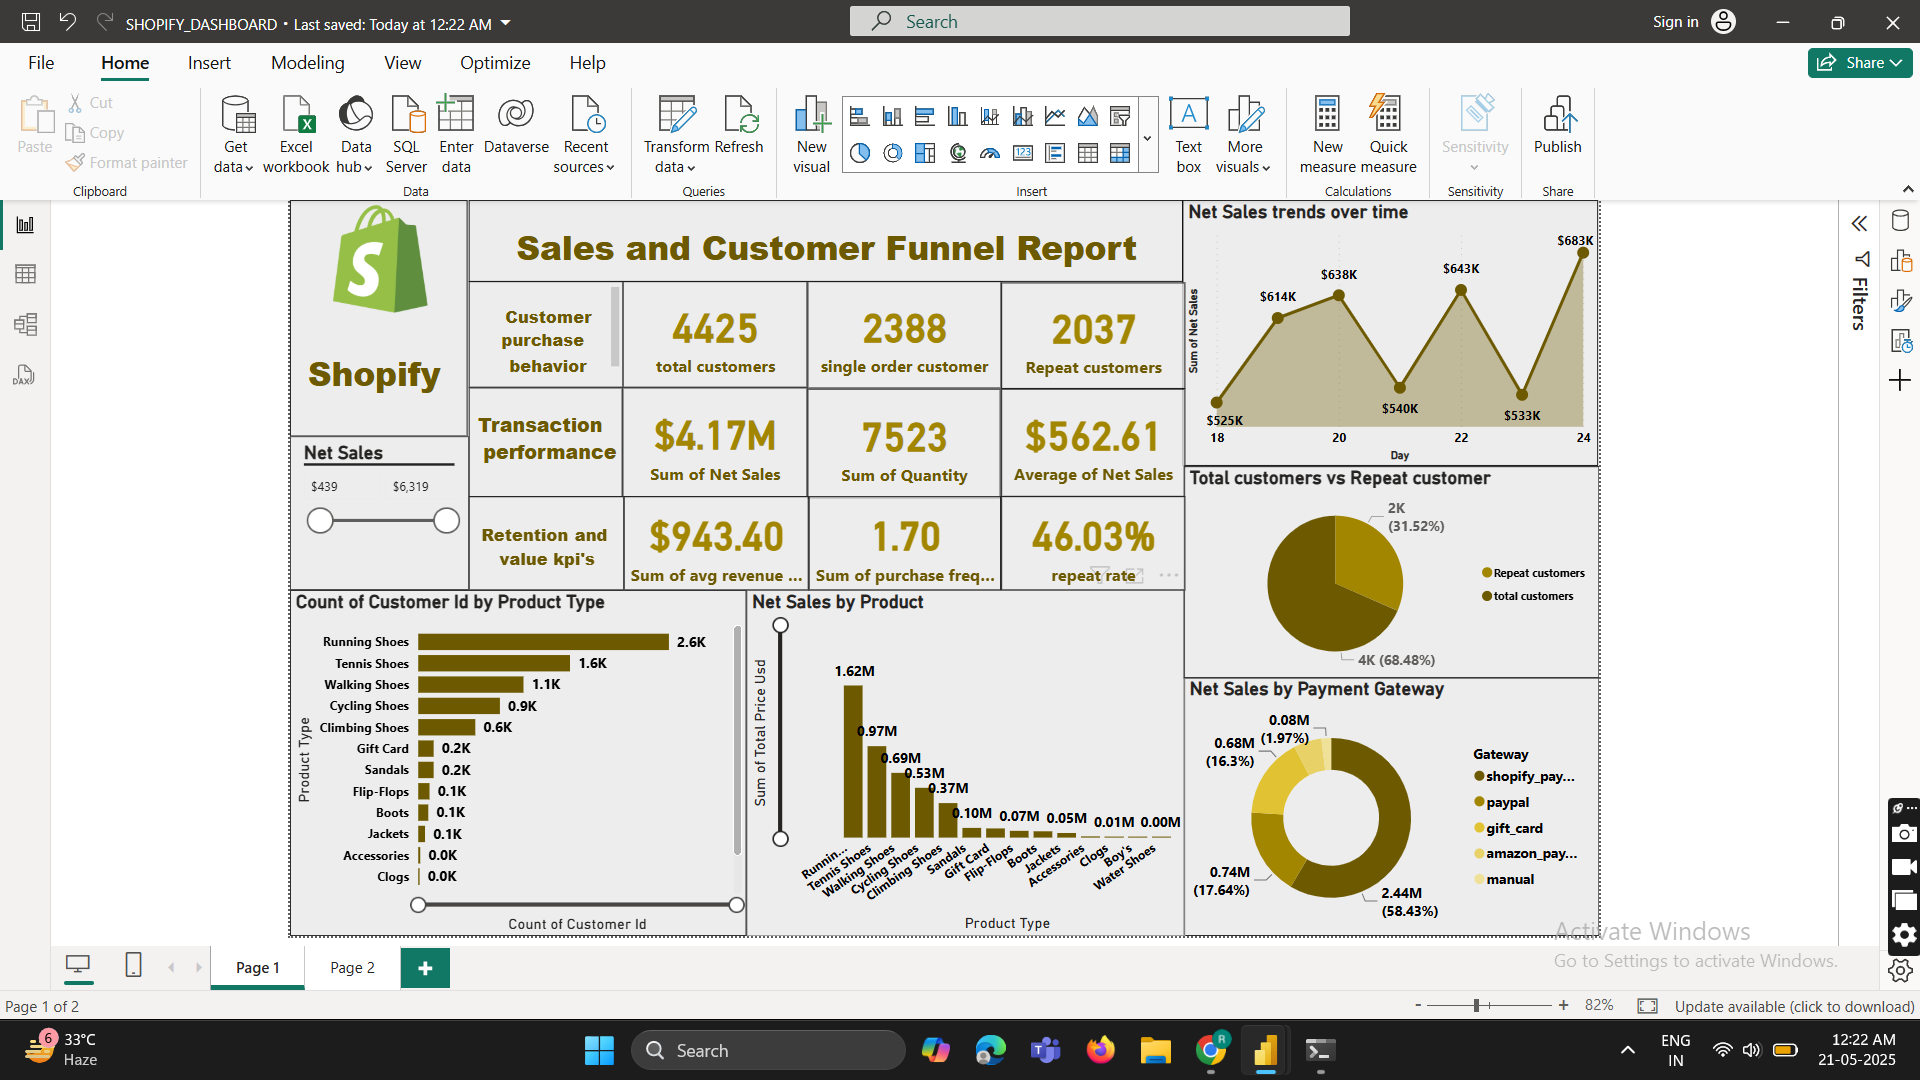

The page's visual inventory and layout, read from the dashboard file:
{"tool":"powerbi","page":{"name":"Page 1","canvas":[1280,720],"ordinal":0},"visuals":[{"type":"donutChart","title":"Net Sales by Payment Gateway","fields":{"Category":["shopify_sales.Gateway"],"Y":["Sum(shopify_sales.Subtotal Price)"]},"box":[873.8,467.5,406.2,252.5],"z":0},{"type":"clusteredColumnChart","title":"Net Sales by Product ","fields":{"Category":["shopify_sales (2).Product Type"],"Y":["Sum(shopify_sales (2).Total Price Usd)"]},"box":[446.2,381.4,429.1,338.6],"z":1000},{"type":"areaChart","title":"Net Sales trends over time","fields":{"Category":["Table1.Invoice Date.Variation.Date Hierarchy.Day"],"Y":["Sum(Table1.Net Sales)"]},"box":[872.5,0,406.2,260],"z":2000},{"type":"clusteredBarChart","fields":{"Category":["shopify_sales.Product Type"],"Y":["CountNonNull(shopify_sales.Customer Id)"]},"box":[0,381.2,446.2,338.8],"z":3000},{"type":"card","fields":{"Values":["Sum(Table1.Quantity)"]},"box":[506.1,184.3,188.9,107.3],"z":4000},{"type":"card","fields":{"Values":["Sum(Table1.Net Sales)"]},"box":[325,183,180.5,107.1],"z":5000},{"type":"card","fields":{"Values":["Avg(Table1.Net Sales)"]},"box":[695,184.3,179.8,105.8],"z":6000},{"type":"textbox","box":[174.3,183,150.7,107.1],"z":7000},{"type":"card","fields":{"Values":["Table1.total customers"]},"box":[325.2,79.5,180.9,103.9],"z":8000},{"type":"textbox","box":[174.3,80,151.4,104.3],"z":9000},{"type":"card","fields":{"Values":["Table1.single order customer"]},"box":[505.5,79.7,189.3,104.6],"z":10000},{"type":"card","fields":{"Values":["Table1.Repeat customers"]},"box":[695,80.1,179.8,104.3],"z":11000},{"type":"pieChart","title":"Total customers vs Repeat customer","fields":{"Y":["Table1.Repeat customers","Table1.total customers"]},"box":[873.8,260,406.2,207.5],"z":12000},{"type":"textbox","box":[0,0,173.8,231.2],"z":13000},{"type":"image","box":[1.2,0,174.3,115.8],"z":14000},{"type":"slicer","fields":{"Values":["Table1.Net Sales"]},"box":[0,231,174.8,150.4],"z":15000},{"type":"card","fields":{"Values":["Table1.repeat rate"]},"box":[695.6,289.7,179.7,91.7],"z":16000},{"type":"textbox","box":[174.3,290.1,151.9,92.1],"z":17000},{"type":"textbox","box":[174.3,0,698.5,79.7],"z":18000},{"type":"card","fields":{"Values":["Sum(Table1.purchas frequency)"]},"box":[507.3,289.7,188.3,91.7],"z":18001},{"type":"card","fields":{"Values":["Sum(Table1.avg revenue per customer)"]},"box":[326.4,289.7,180.9,91.7],"z":18002}]}

Visuals, with their boxes on the page's 1280x720 design canvas (x1, y1, x2, y2). These are canvas units, not pixel positions in the 1920x1080 screenshot, which may show the page scaled, cropped or inside an application window:
"Net Sales by Payment Gateway" donutChart: region(874, 468, 1280, 720)
"Net Sales by Product " clusteredColumnChart: region(446, 381, 875, 720)
"Net Sales trends over time" areaChart: region(872, 0, 1279, 260)
clusteredBarChart - shopify_sales.Product Type x CountNonNull(shopify_sales.Customer Id): region(0, 381, 446, 720)
card - Sum(Table1.Quantity): region(506, 184, 695, 292)
card - Sum(Table1.Net Sales): region(325, 183, 506, 290)
card - Avg(Table1.Net Sales): region(695, 184, 875, 290)
textbox: region(174, 183, 325, 290)
card - Table1.total customers: region(325, 80, 506, 183)
textbox: region(174, 80, 326, 184)
card - Table1.single order customer: region(506, 80, 695, 184)
card - Table1.Repeat customers: region(695, 80, 875, 184)
"Total customers vs Repeat customer" pieChart: region(874, 260, 1280, 468)
textbox: region(0, 0, 174, 231)
image: region(1, 0, 176, 116)
slicer - Table1.Net Sales: region(0, 231, 175, 381)
card - Table1.repeat rate: region(696, 290, 875, 381)
textbox: region(174, 290, 326, 382)
textbox: region(174, 0, 873, 80)
card - Sum(Table1.purchas frequency): region(507, 290, 696, 381)
card - Sum(Table1.avg revenue per customer): region(326, 290, 507, 381)
